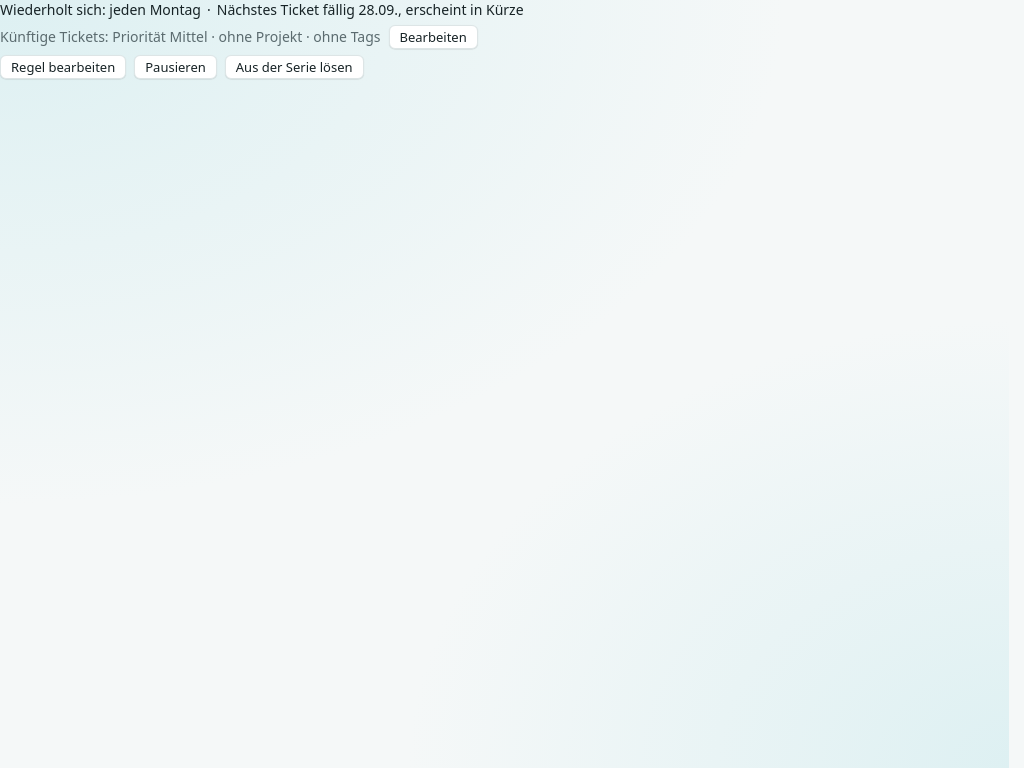
Test: RecurrenceSummary › edits the rhythm of the rule
Click the button "Regel bearbeiten" at coordinates (63, 67), box [0,55,126,79]
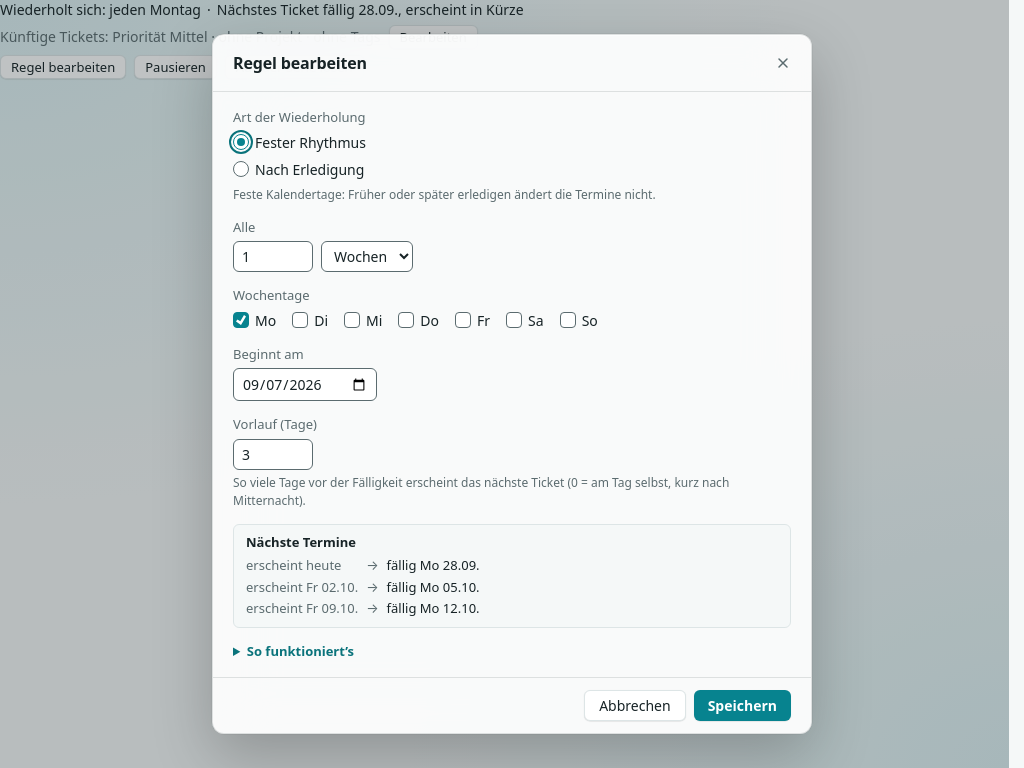
Click the checkbox named "Donnerstag" at coordinates (406, 320), box [398,312,414,328]
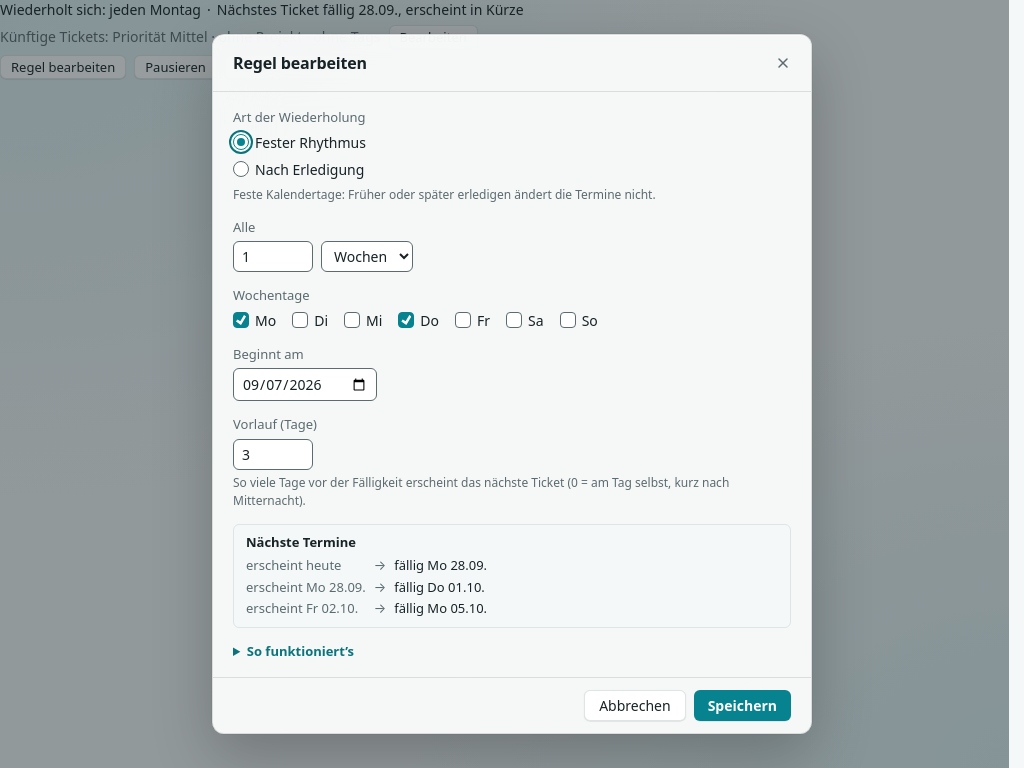
Click the checkbox named "Montag" at coordinates (241, 320), box [233,312,249,328]
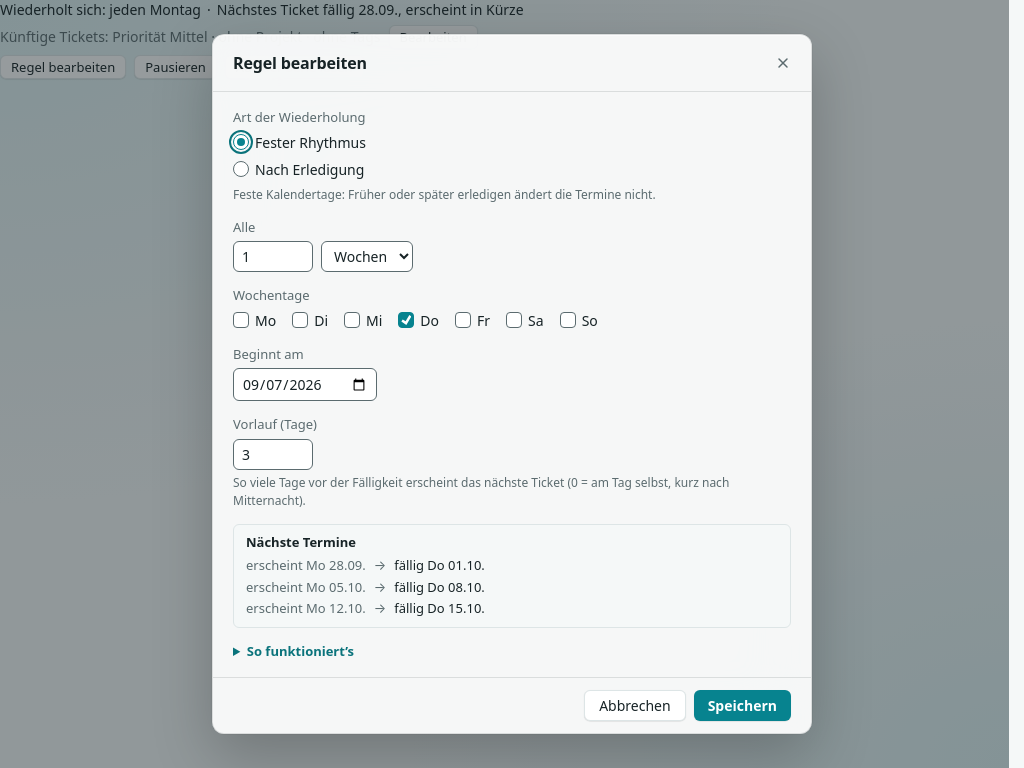
Click the button "Speichern" at coordinates (742, 706), box [694,690,791,721]
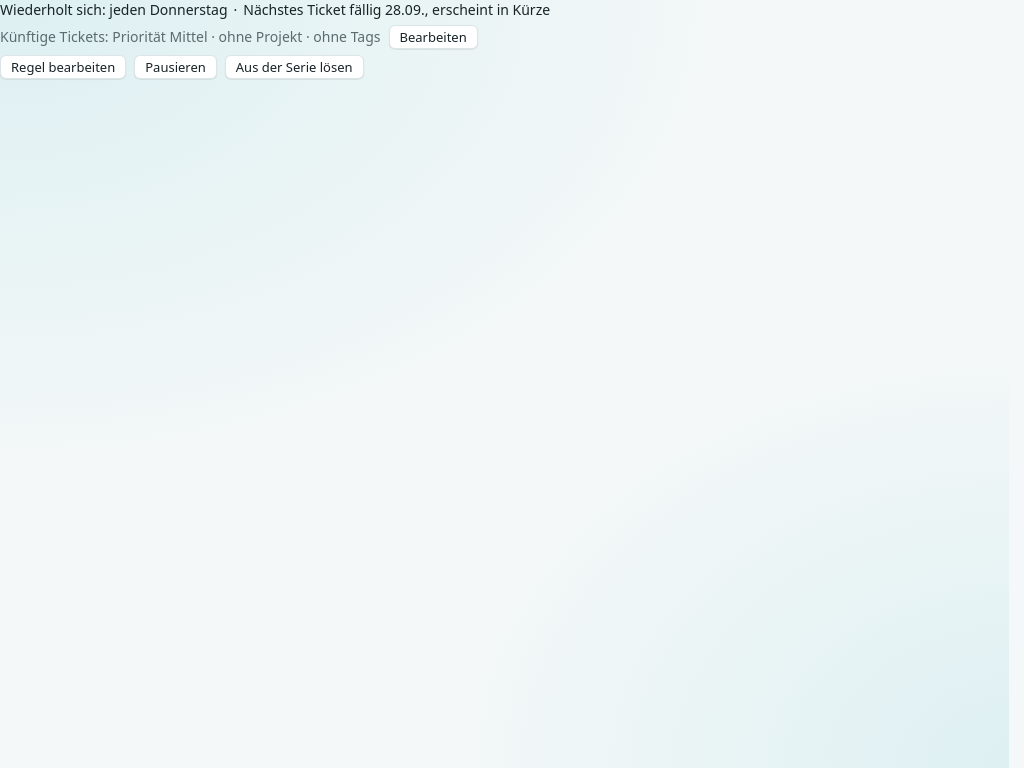
Expected: the dialog is gone
Expected: the text "Wiederholt sich: jeden Donnerstag" is shown, [0,0,228,19]
